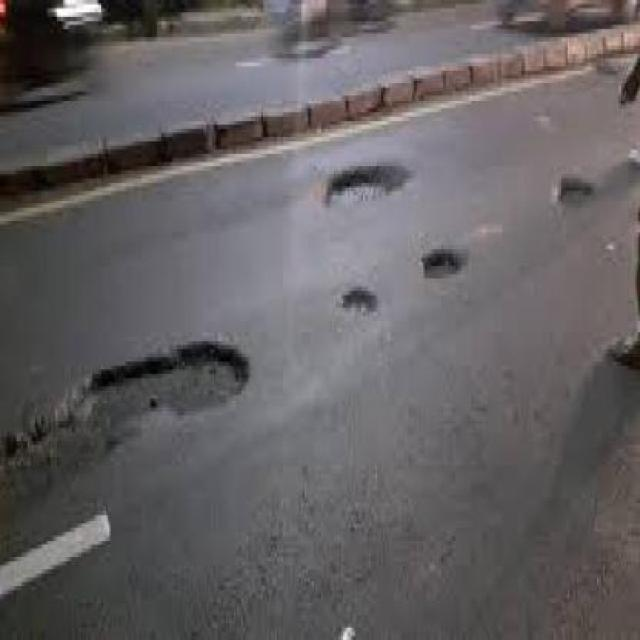pothole: (0, 318, 252, 483), (314, 149, 409, 208), (414, 232, 468, 283), (552, 162, 593, 212), (332, 278, 379, 320)
